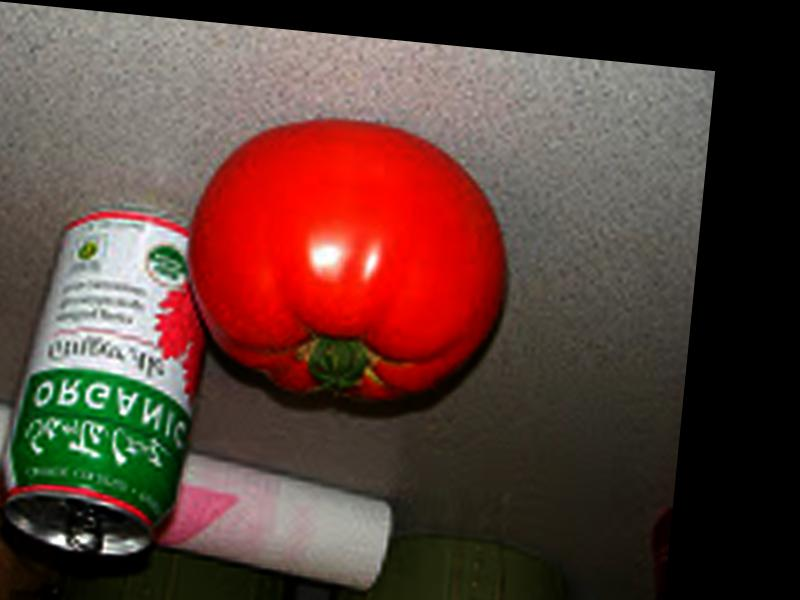Tomato: (179, 109, 516, 410)
